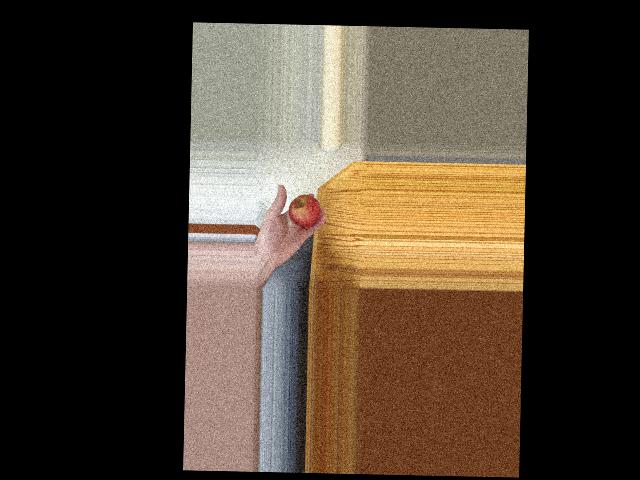apple: (286, 193, 320, 230)
